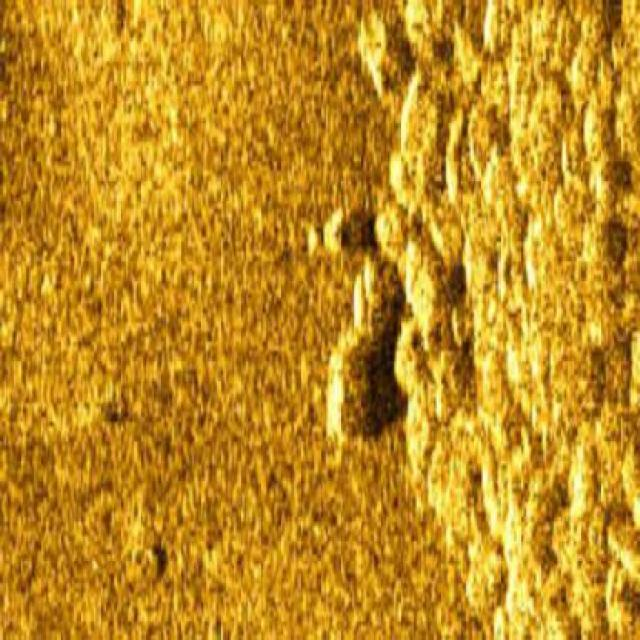bedrock group: (321, 0, 638, 638)
